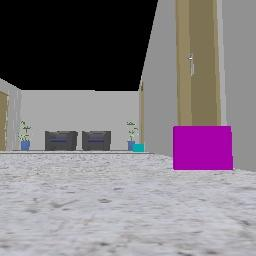fotoliu: (45, 131, 75, 150), (82, 131, 110, 150)
mov: (174, 126, 232, 169)
planta: (18, 121, 30, 149)
turcoaz: (133, 144, 143, 151)
